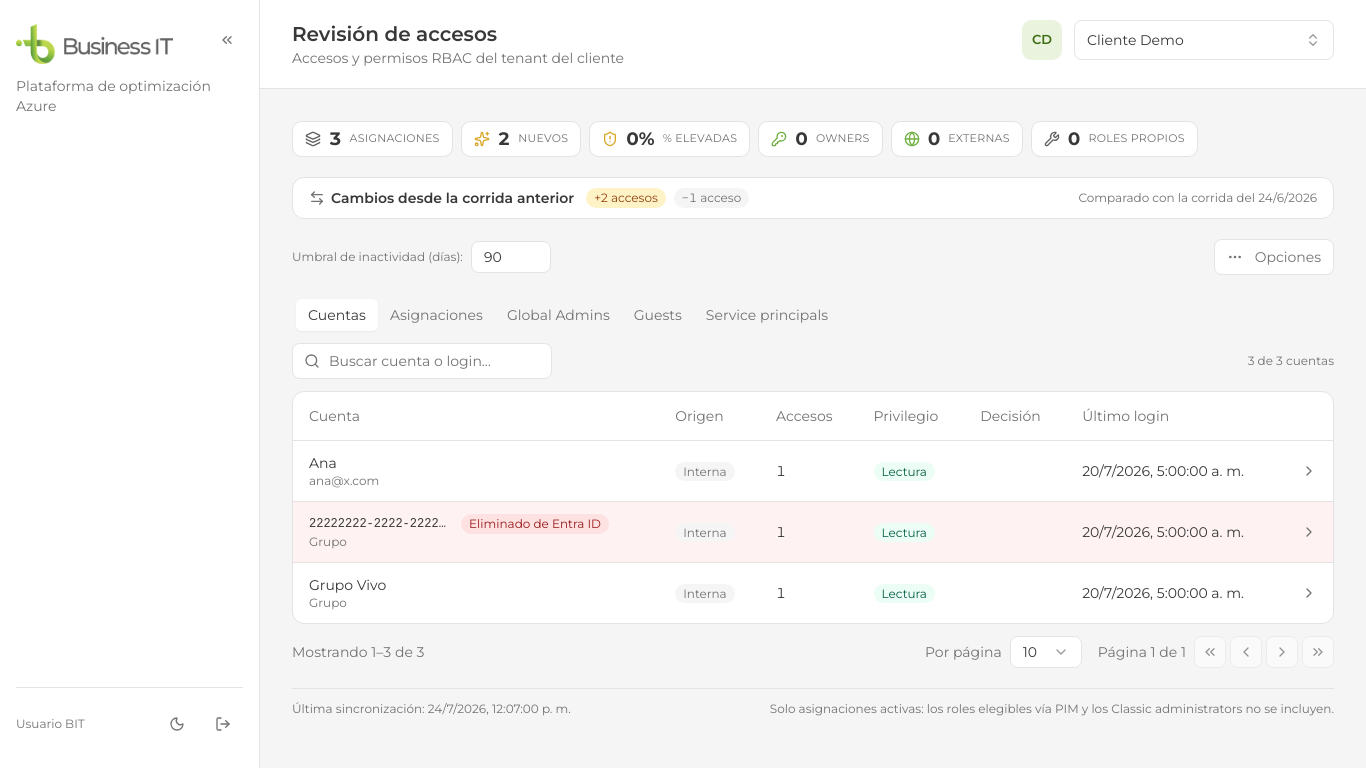
la pestaña Asignaciones muestra la clase de rol
This screenshot has width=1366, height=768.
Press the mouse on the tab "Asignaciones" at point(436, 315), box [378,299,495,331]
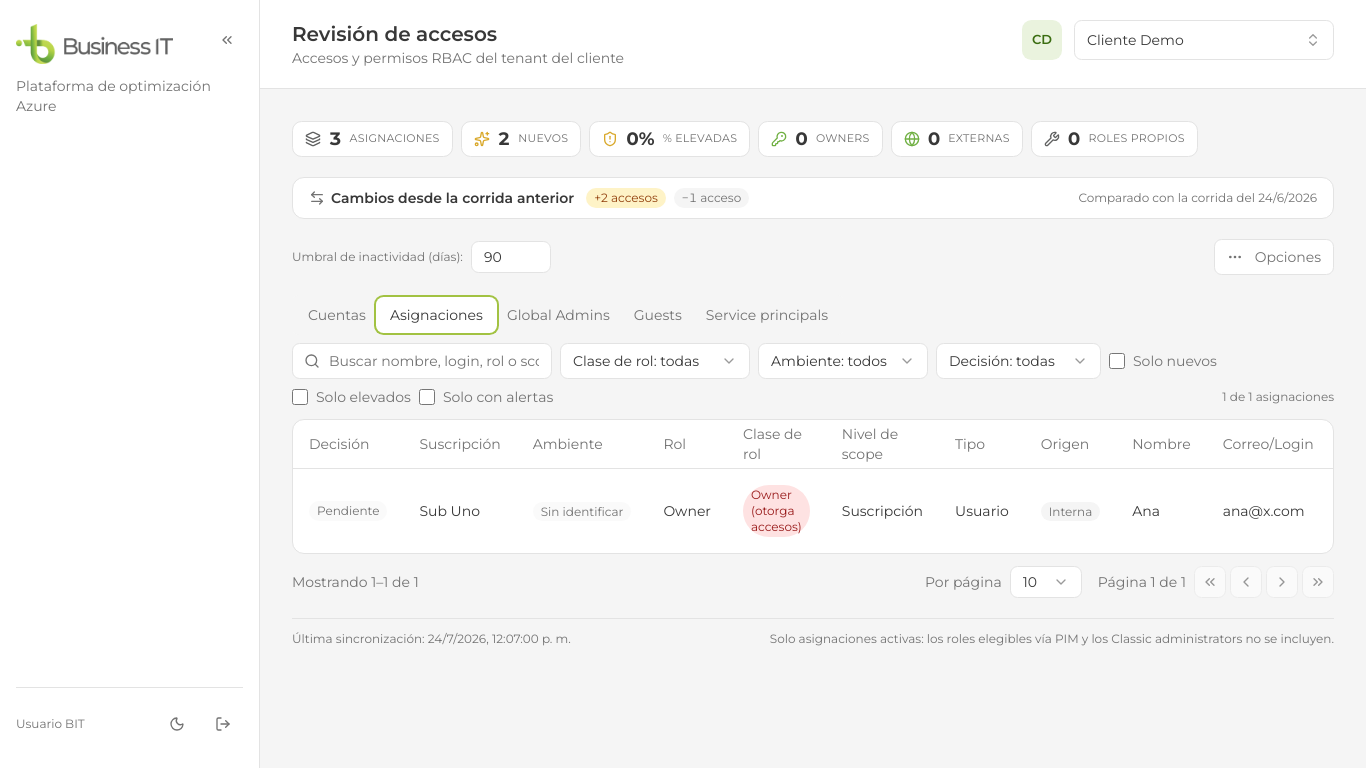
Now the text "Owner (otorga accesos)" is shown, box [743,485,810,537]
